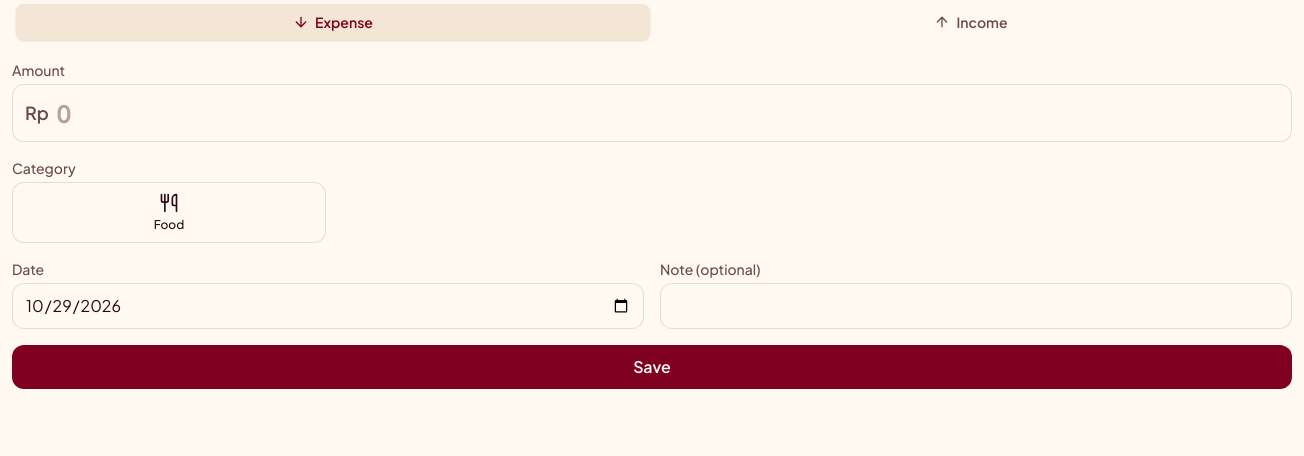
Test: TransactionForm › validates required fields without submitting
Click the button "Save": (652, 367) top-left (12, 345), bottom-right (1292, 389)
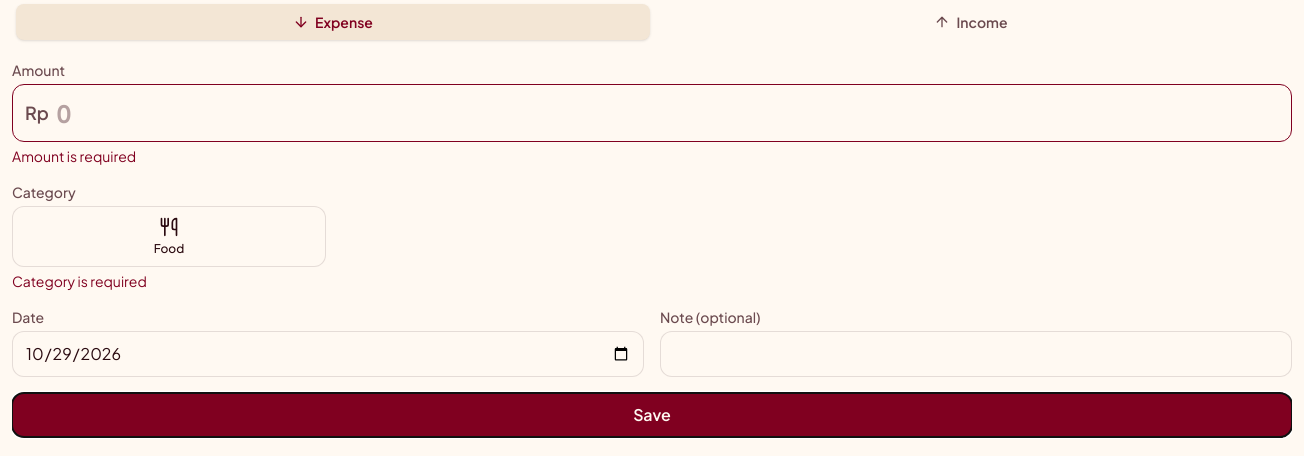
Expected: the text "Amount is required" is shown, top-left (12, 147), bottom-right (136, 165)
Expected: the text "Category is required" is shown, top-left (12, 272), bottom-right (147, 290)
